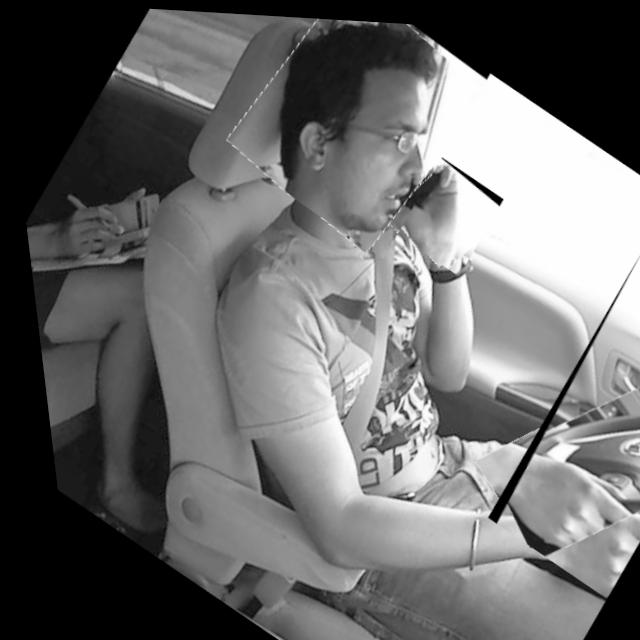phone: (373, 142, 506, 273)
wheel: (208, 10, 506, 261), (449, 231, 640, 597)
